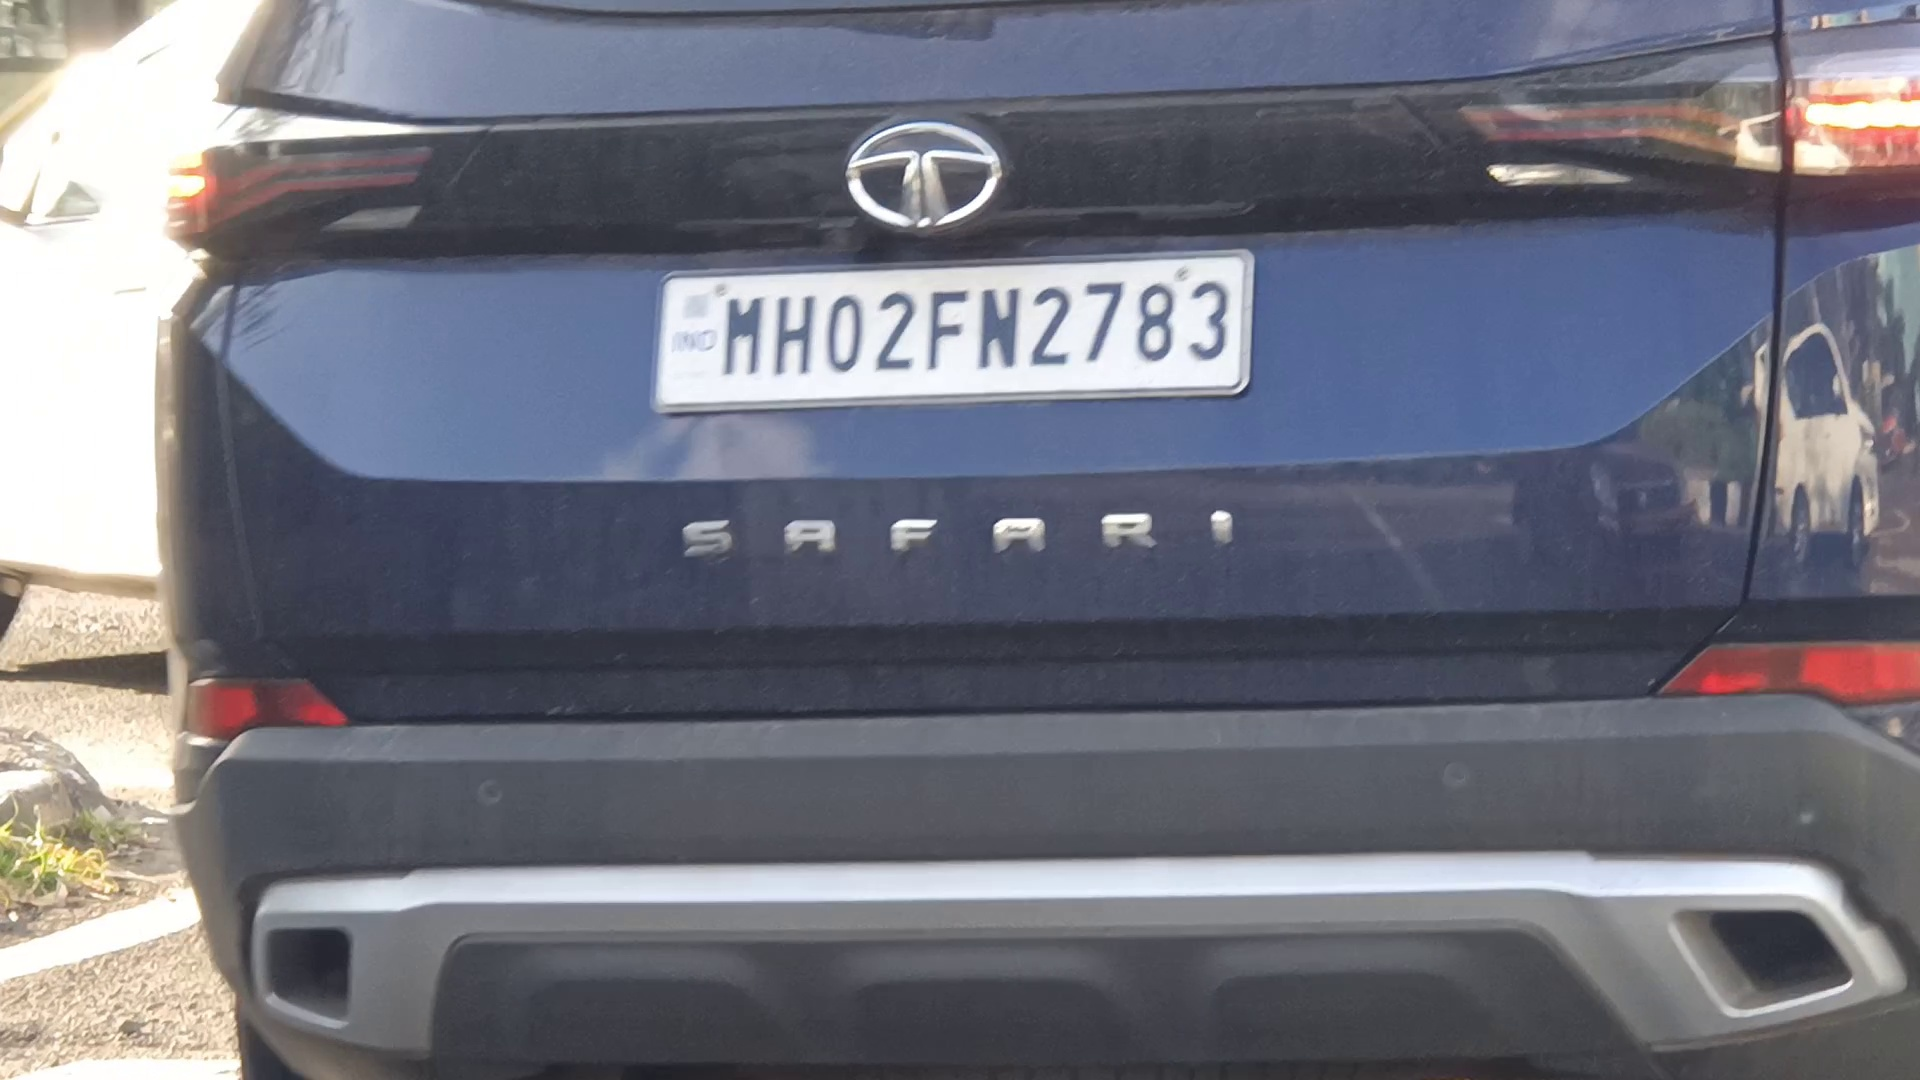MH02FN2783: (650, 250, 1254, 413)
